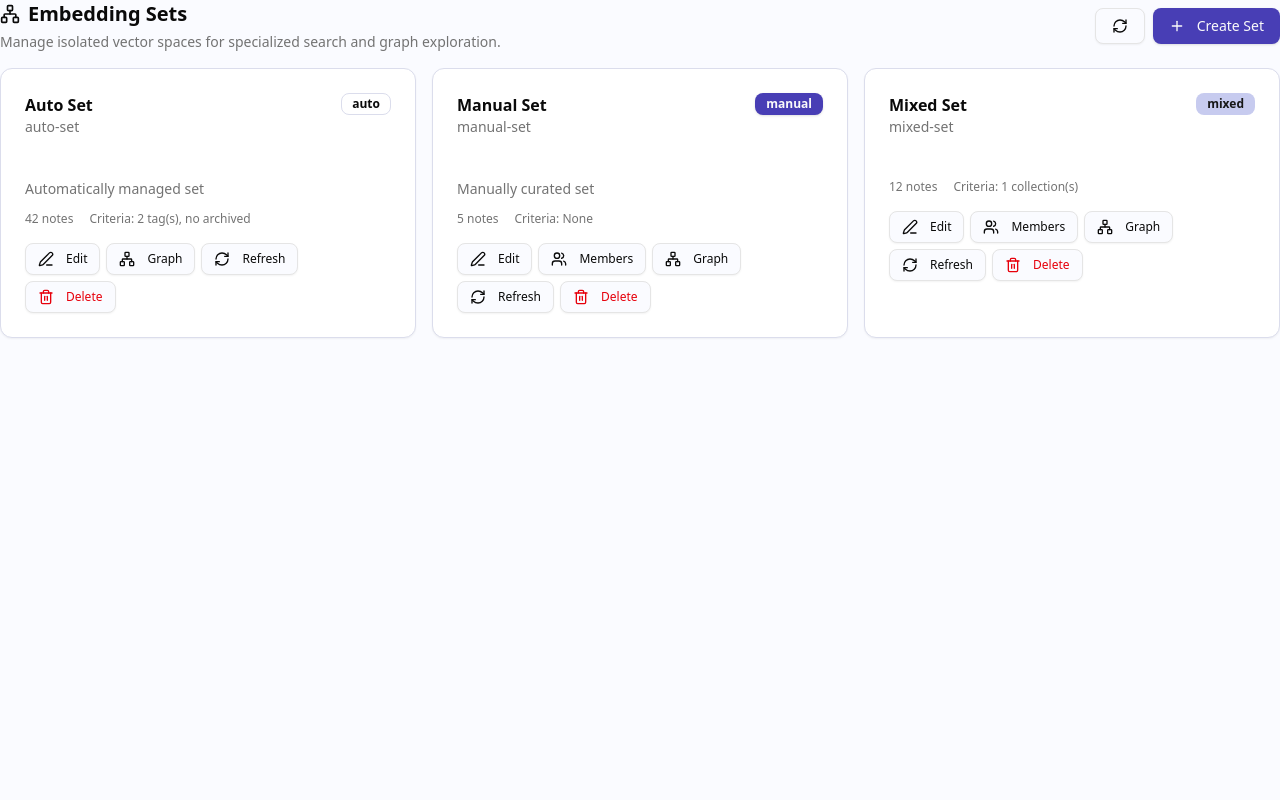
Scenario: EmbeddingSetManager › edit dialog › opens the edit dialog when Edit button is clicked
The image size is (1280, 800).
Expected: the text "Auto Set" is shown, top-left (25, 94), bottom-right (93, 116)
Click the first Edit button (auto-set card)
Click the button "Edit" below "42": (63, 259) top-left (25, 243), bottom-right (100, 275)
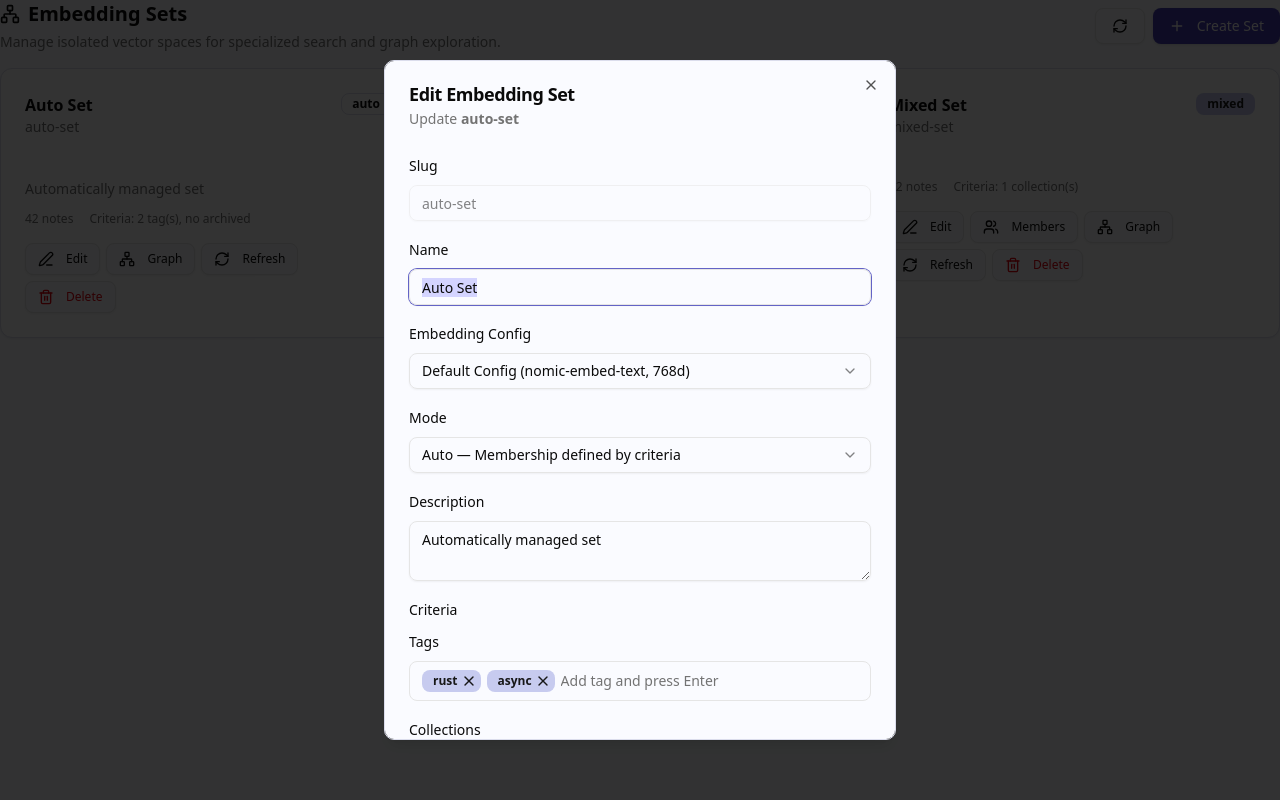
Now the heading "Edit Embedding Set" is shown, box top-left (409, 82), bottom-right (575, 106)
